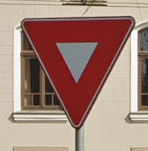cedeaza: (21, 15, 140, 134)
